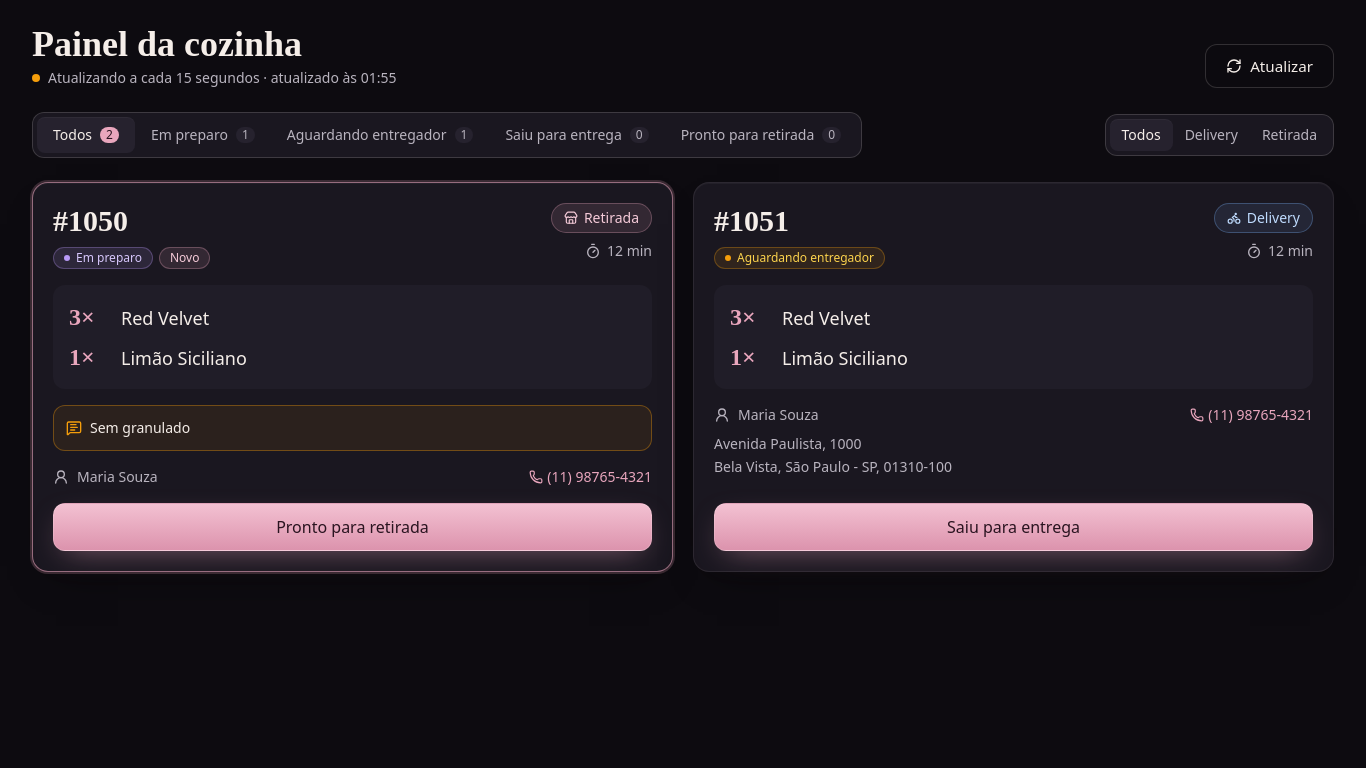
Test: KitchenPage (US13/US14) › exige o nome do entregador ao sair para entrega
Later steps or results of the test are not shown.
Click the button "Saiu para entrega" at (1014, 527), box [714,503,1313,551]
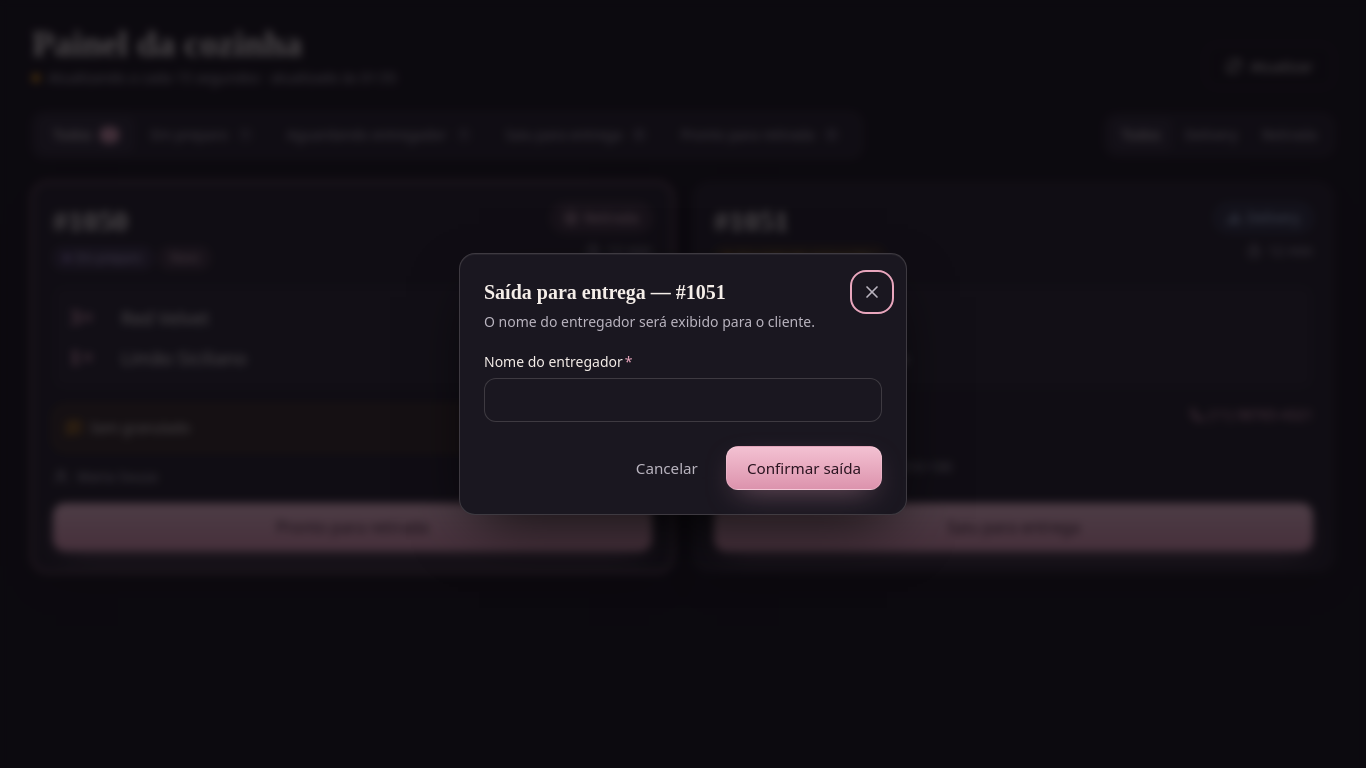
Click the button "Confirmar saída" at (804, 468), box [726,446,882,490]
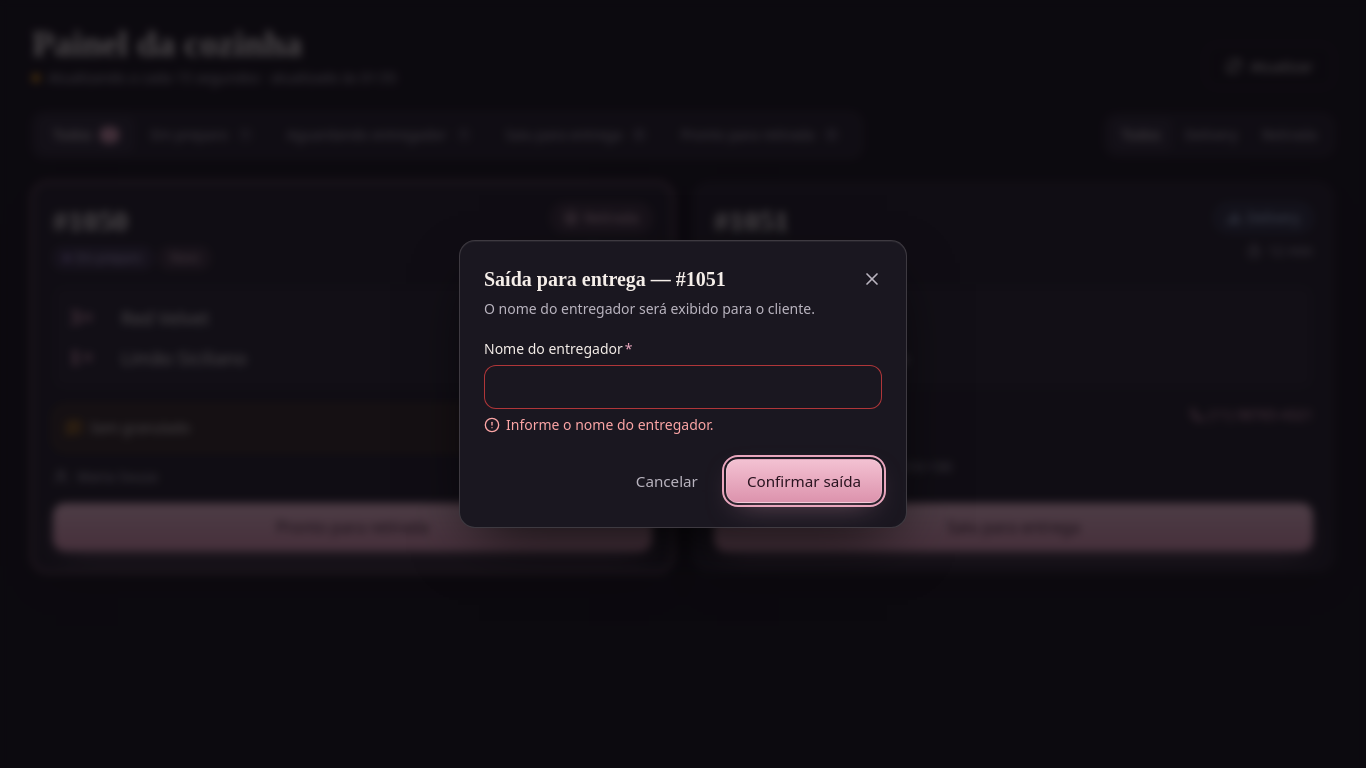
Result: the text "Informe o nome do entregador." is shown at [506,415,714,435]
